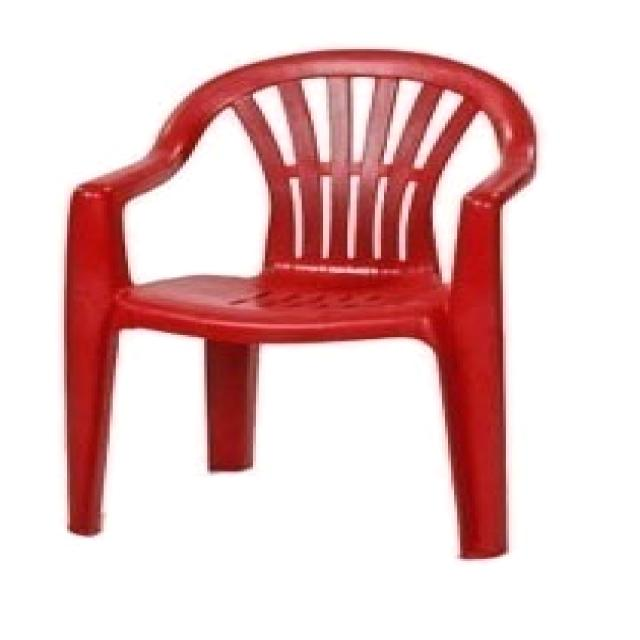Chair: (62, 50, 546, 564)
